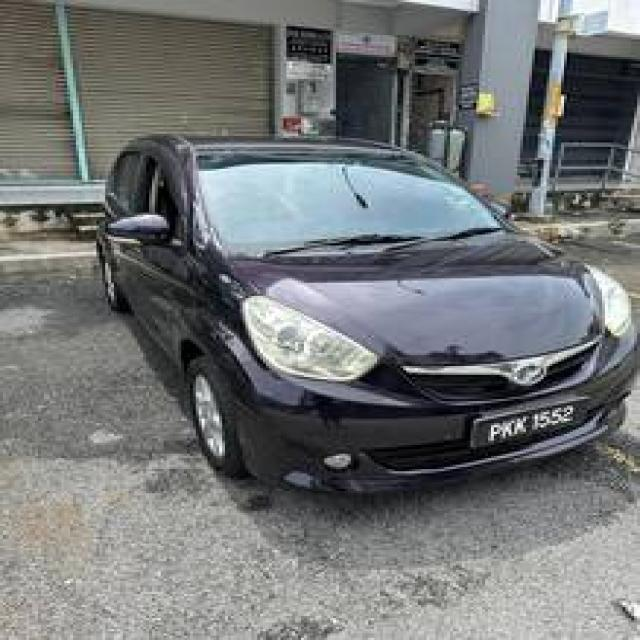PeroduaMyvi: (91, 130, 637, 498)
